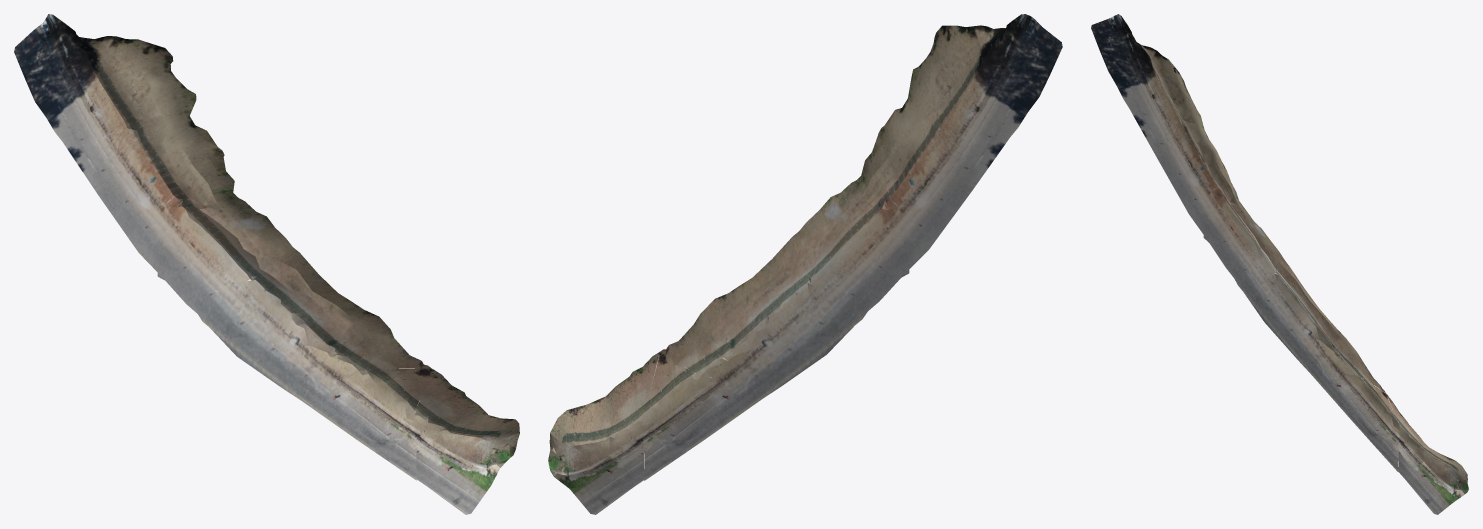
3 views of the same model, side by side, from view 1: azimuth 30°, elevation 25°; view 2: azimuth 150°, elevation 25°; view 3: azimuth 330°, elevation 25° (orthographic). The views are drawn at different scales.
Visible parts, largest first — view 1: Bloco 1; view 2: Bloco 1; view 3: Bloco 1.
Boxes of the visible parts, left/top/right/bottom form: Bloco 1: left=14, top=14, right=519, bottom=514; Bloco 1: left=548, top=14, right=1062, bottom=514; Bloco 1: left=1091, top=14, right=1468, bottom=514.
Bounding box in the file's own units: 122 × 139 × 14.84.
Materials: 1 (1 with a texture image).
